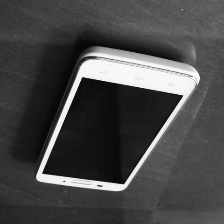phone: (32, 39, 204, 196)
